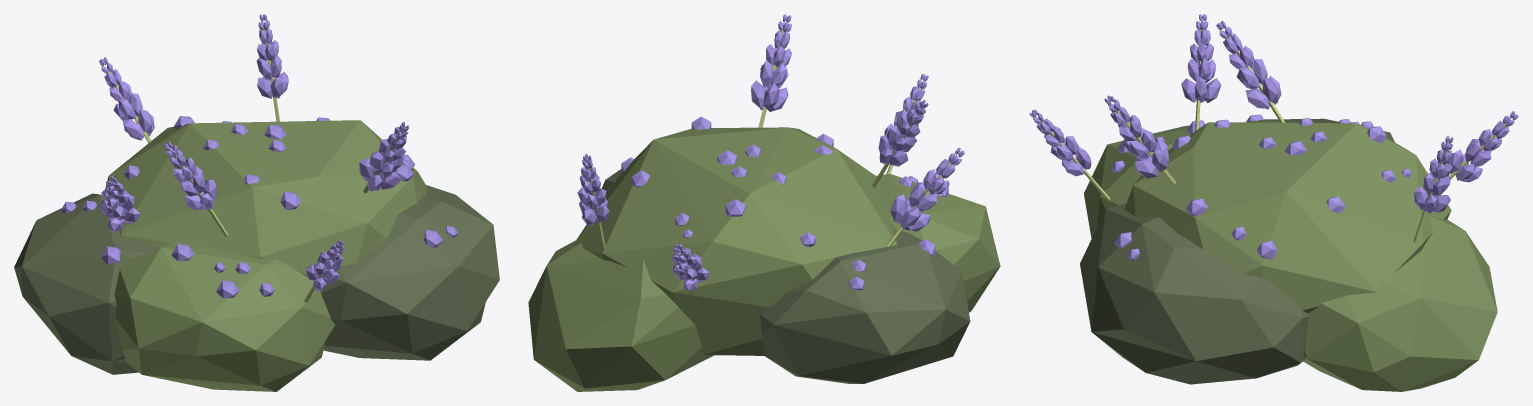
File: Lavender Harvested.fbx
3 views of the same model, side by side, from view 1: azimuth 30°, elevation 25°; view 2: azimuth 150°, elevation 25°; view 3: azimuth 270°, elevation 25° (orthographic). The views are drawn at different scales.
Visible parts, largest first — view 1: pPlatonic25; view 2: pPlatonic25; view 3: pPlatonic25.
Part boxes in pixels (x1=…): pPlatonic25: x1=14, y1=14, x2=499, y2=391; pPlatonic25: x1=528, y1=14, x2=1000, y2=391; pPlatonic25: x1=1029, y1=14, x2=1518, y2=391.
Size of the model in its own units: 1.09 by 0.6969 by 1.15.
